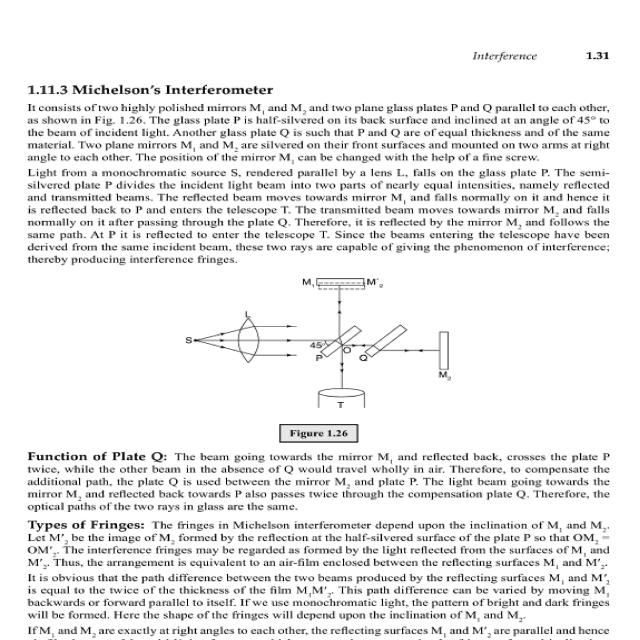diagram: (158, 267, 542, 447)
